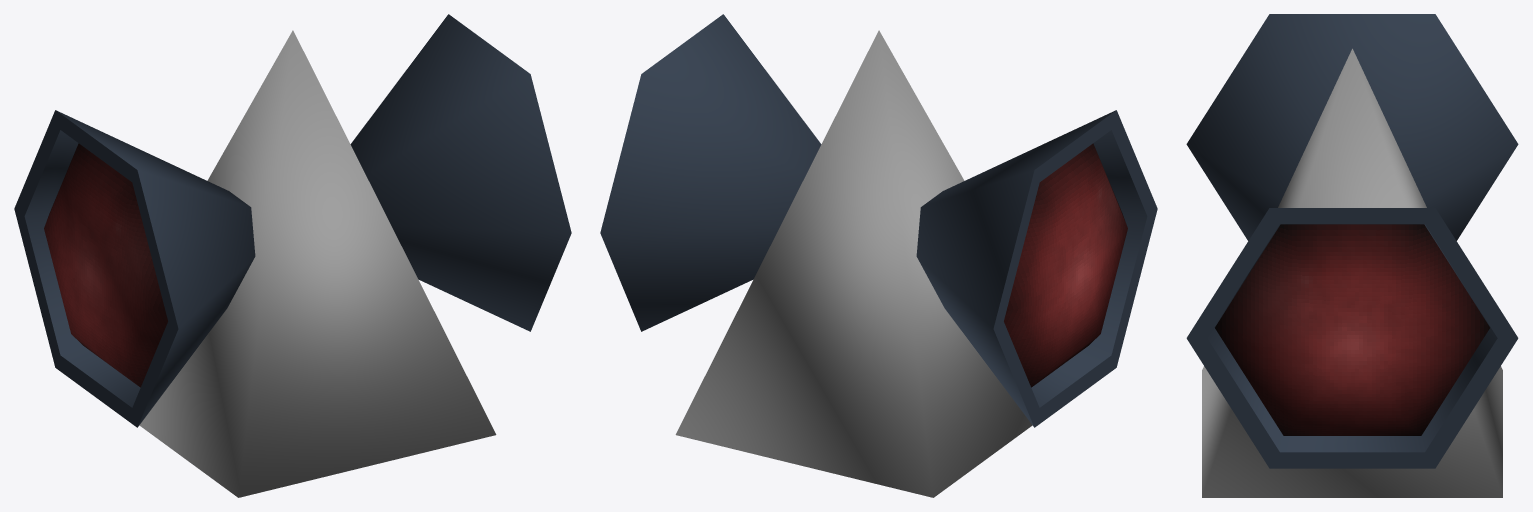
File: Lockdown lights.glb
3 views of the same model, side by side, from view 1: azimuth 30°, elevation 25°; view 2: azimuth 150°, elevation 25°; view 3: azimuth 270°, elevation 25° (orthographic).
Visible parts, largest first — view 1: Cone; view 2: Cone; view 3: Cone.
Part boxes in pixels (x1,y1,x2,y2): Cone: (14,14,571,497); Cone: (600,14,1157,497); Cone: (1186,14,1518,497).
Bounding box in the file's own units: 0.4439 × 0.4 × 0.3117.
Materials: 1 (1 with a texture image).
